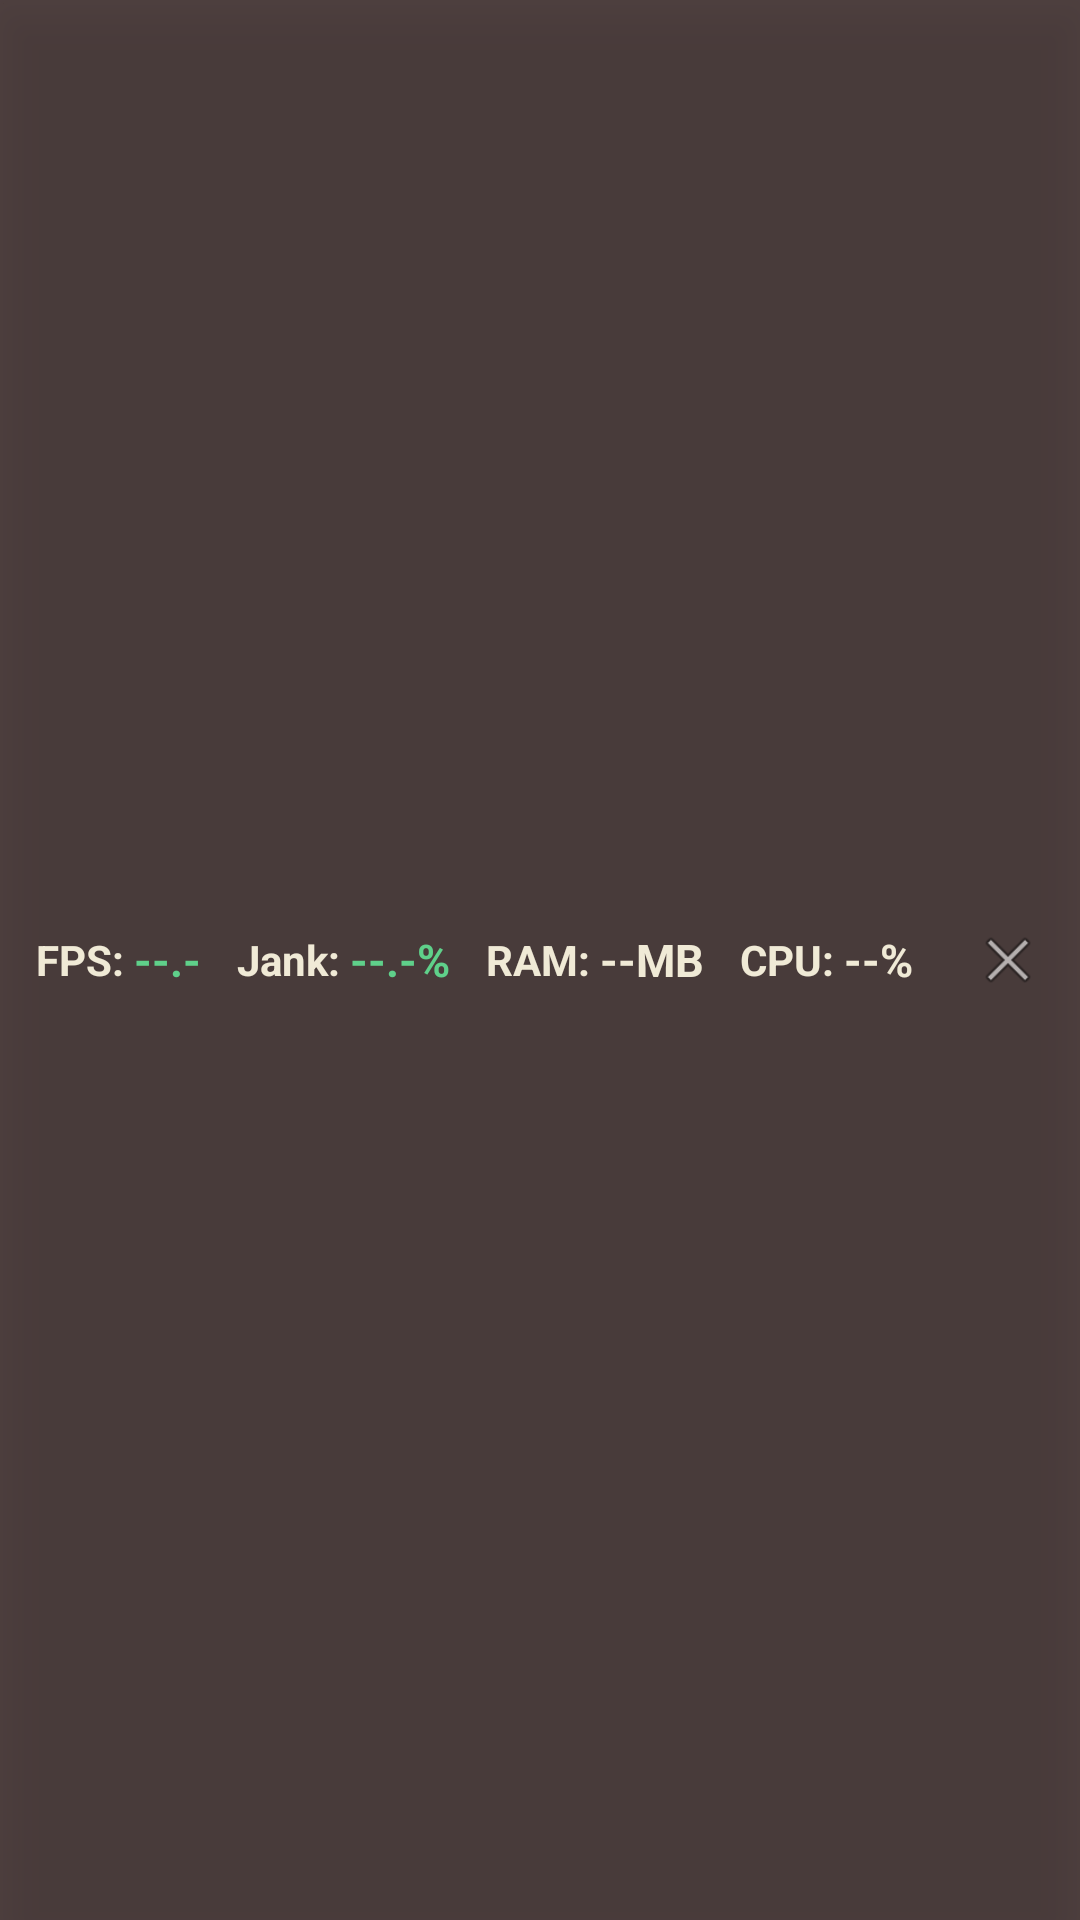

Where to tap for icons on this 1080 x 1920 app screen, as (x,y):
Ẩn Overlay: (1008,960)
